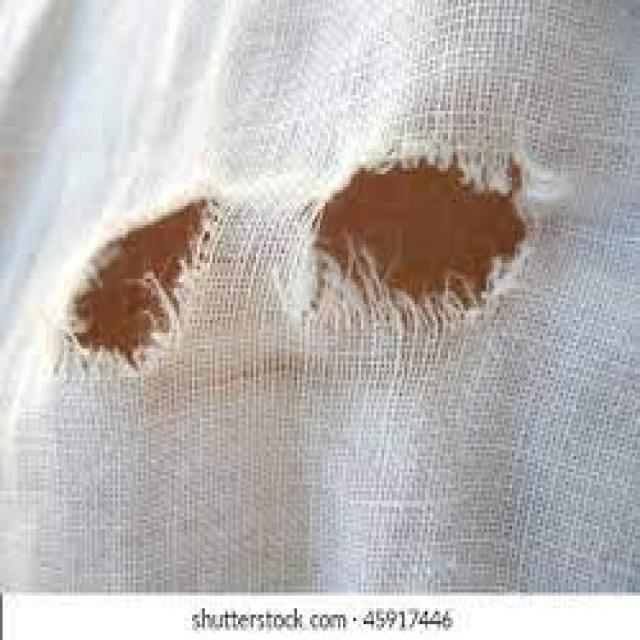Hole: (316, 160, 527, 306), (73, 199, 216, 364)
